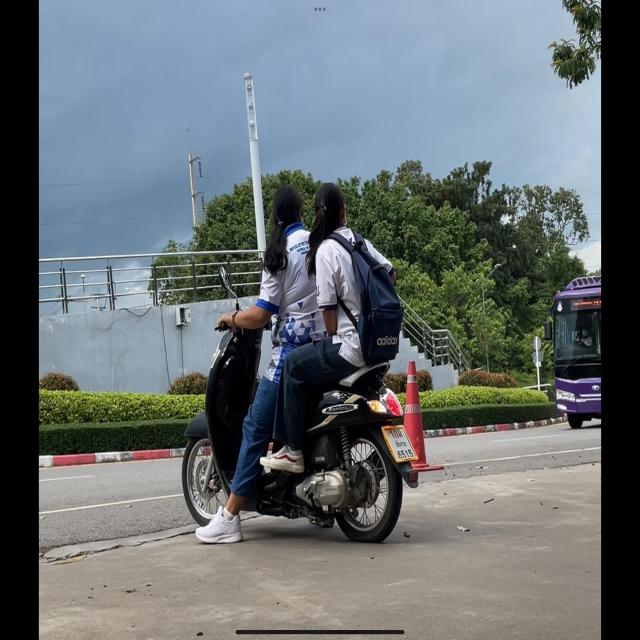seatbelt: (313, 181, 347, 229), (271, 185, 304, 233)
